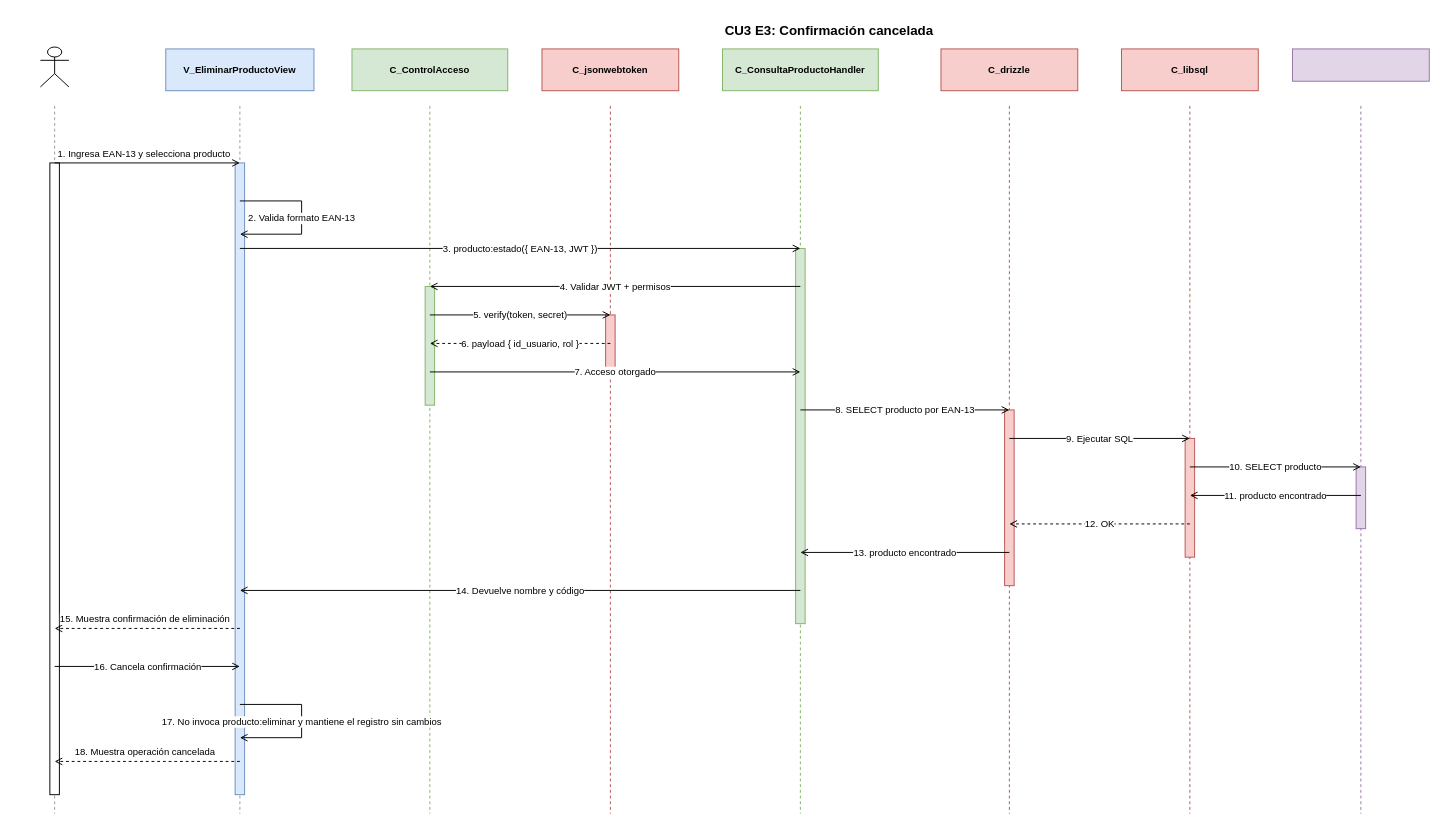
Some shapes in this 1446 by 831 pixel diagram are drawn without their labels. Each missing label, with the centre of its shape:
"Dueño/Trabajador" belongs at (54,66).
"producto" belongs at (1360,64).
